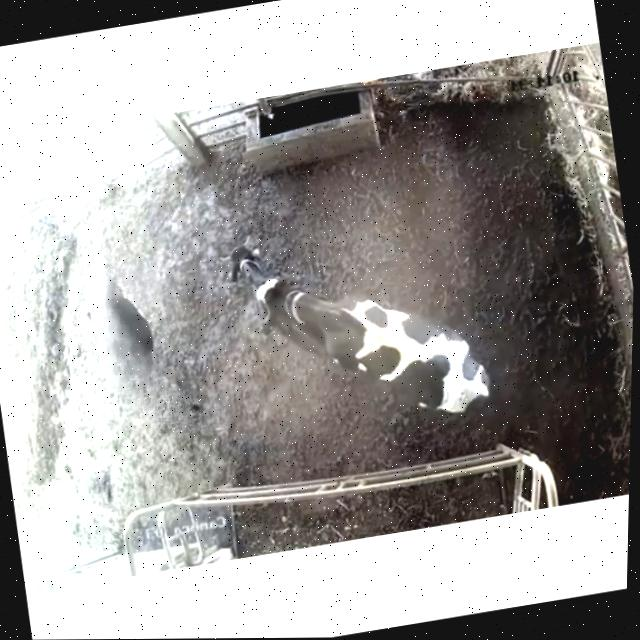ride: (241, 237, 520, 457)
